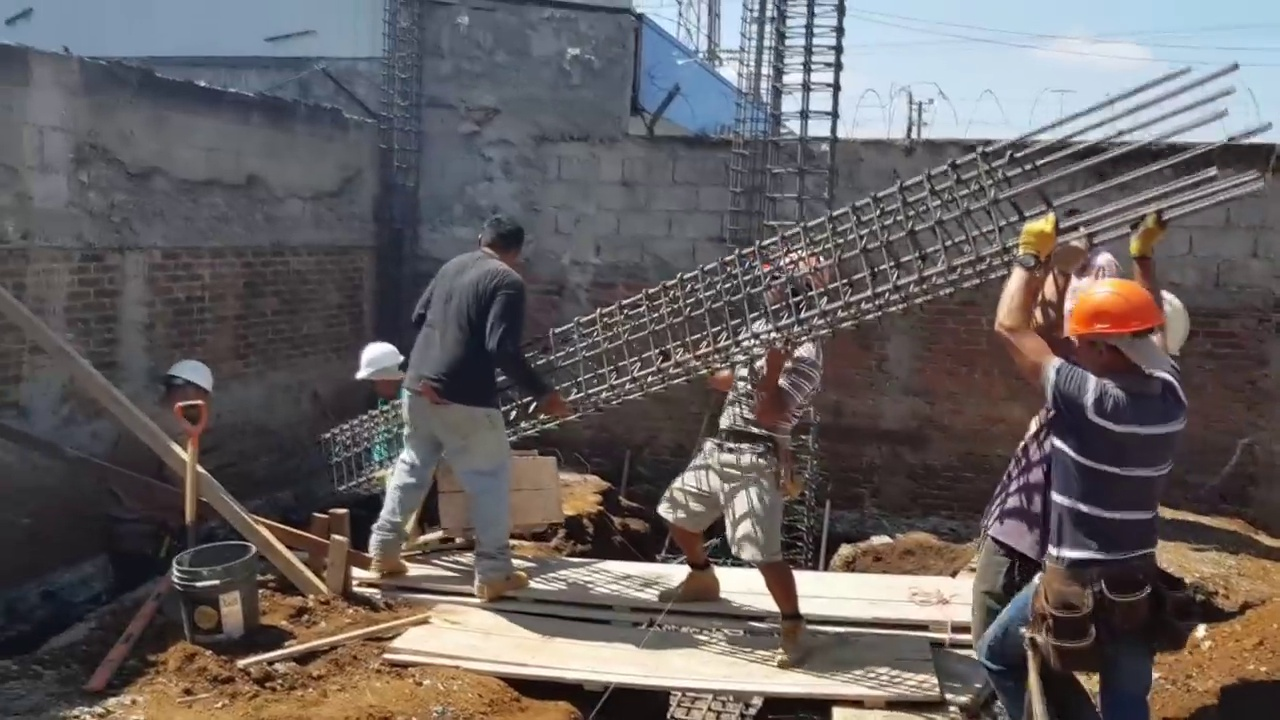helmet: (1070, 272, 1176, 352), (763, 248, 829, 292), (354, 344, 405, 384), (1022, 214, 1067, 251), (166, 363, 215, 393)
helmet-off: (475, 216, 526, 270)
helmet-on: (1061, 269, 1178, 393), (755, 250, 828, 319), (151, 363, 214, 418), (354, 344, 403, 405)
person: (977, 216, 1206, 696), (661, 234, 853, 710), (366, 207, 558, 589), (94, 356, 213, 587), (1005, 211, 1078, 421)
